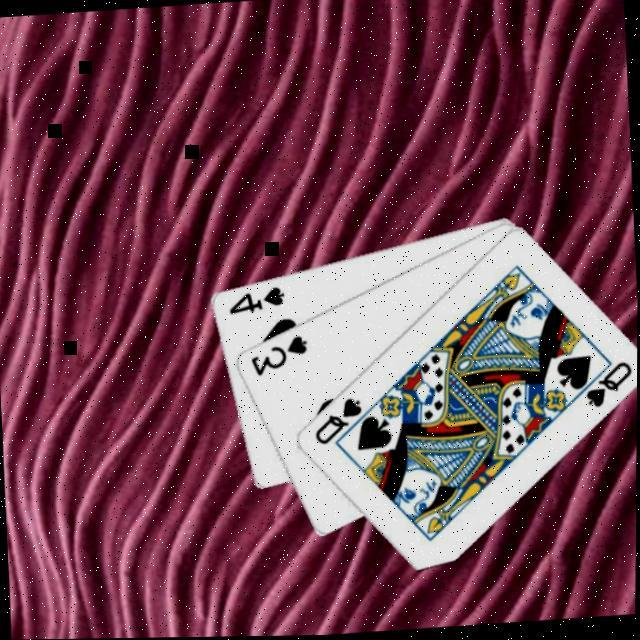3S: (246, 330, 310, 378)
4S: (224, 282, 286, 316)
QS: (309, 392, 366, 448), (579, 358, 636, 412)
